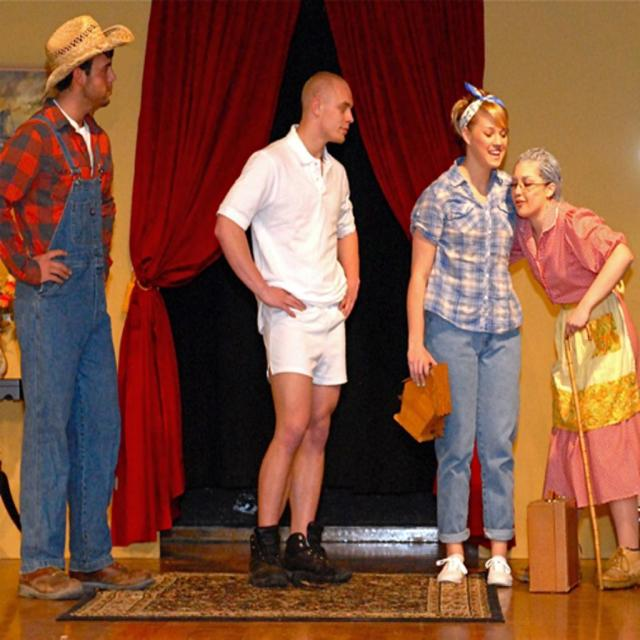Face: (66, 48, 123, 123), (465, 108, 525, 163), (320, 85, 359, 154), (511, 163, 553, 220)
